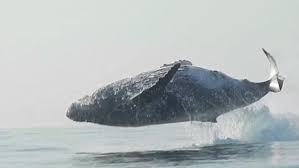humpback: (61, 65, 286, 127)
